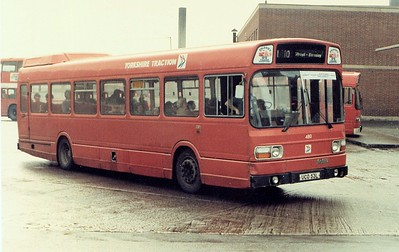bus: (16, 37, 348, 193)
